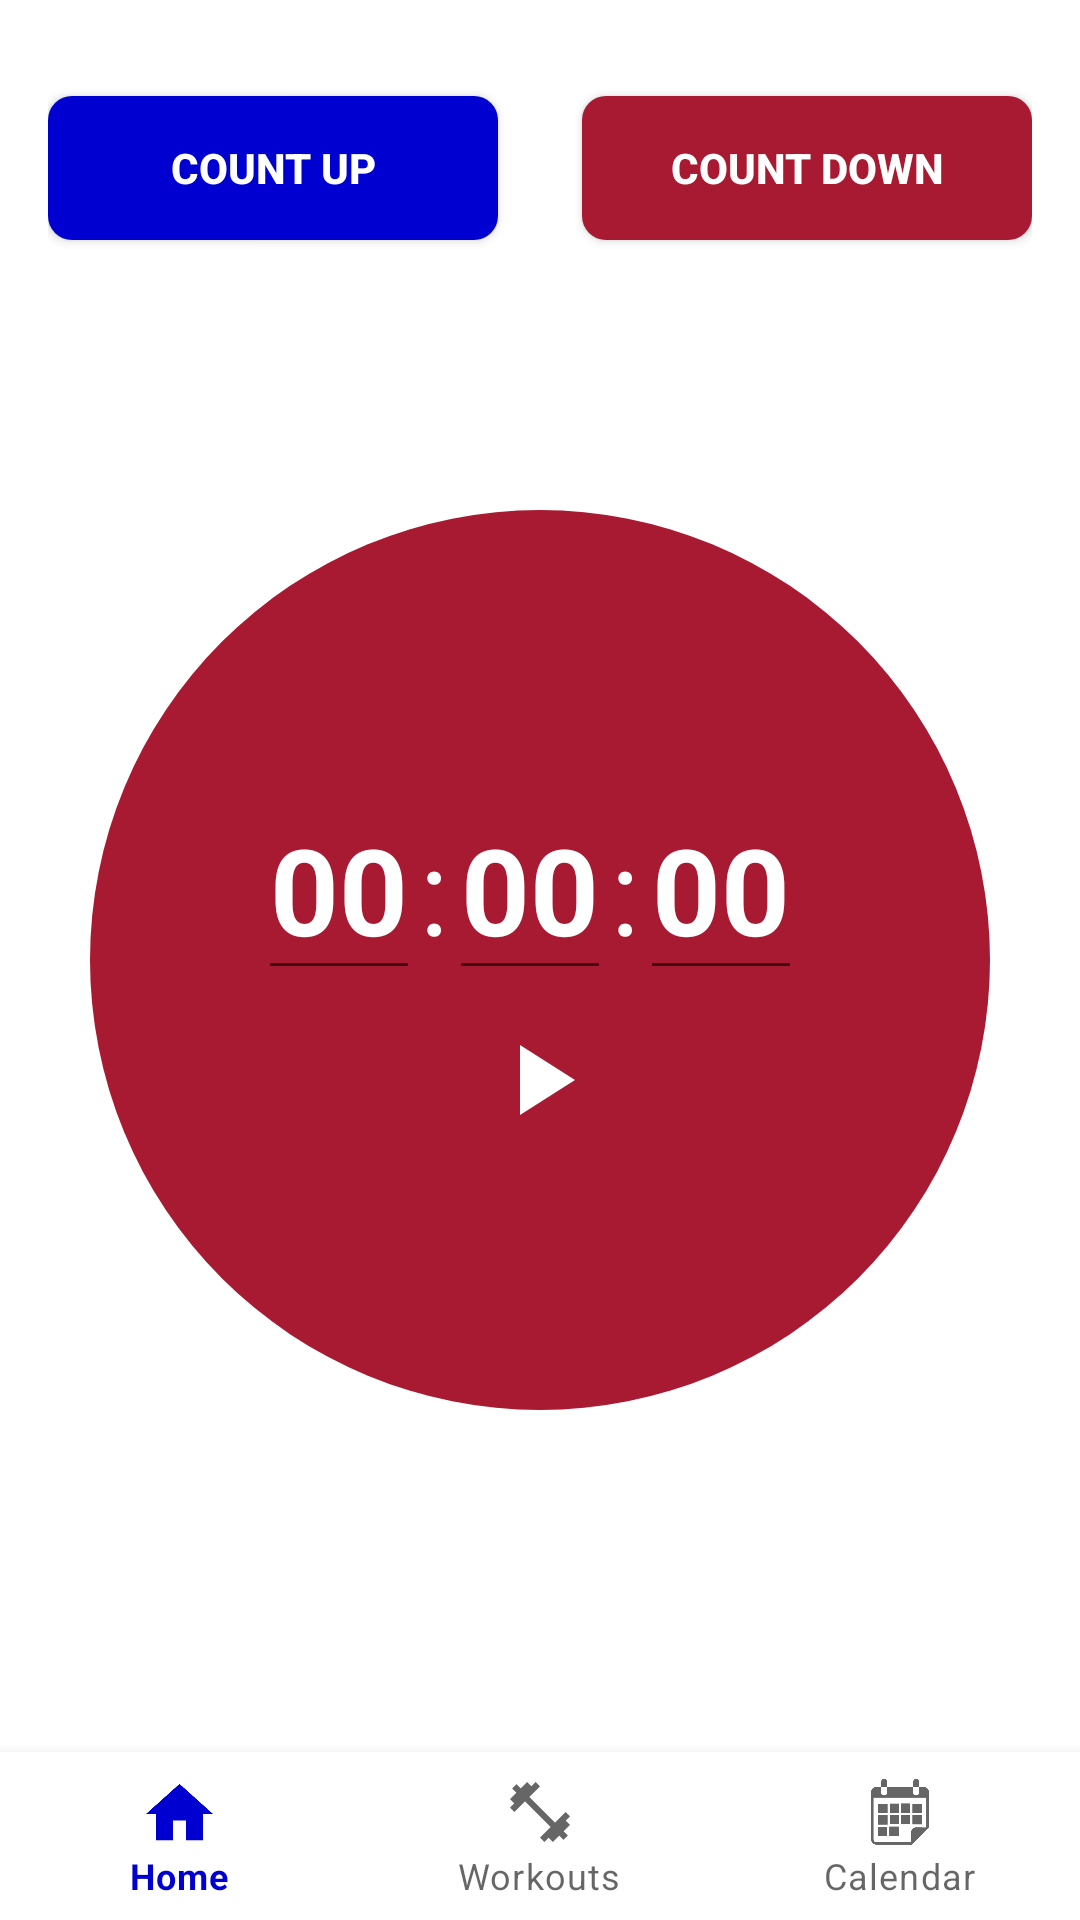

Locate icon controls on the screen. Image size 1080w x 1920h, boxes as (x1, y1, x2, y2).
play: (520, 1045, 575, 1115)
